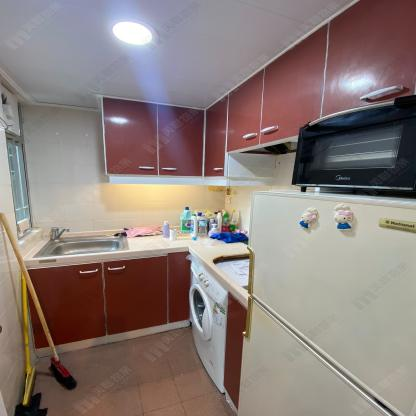Cupboard: (97, 94, 206, 177)
Faucet: (47, 225, 70, 239)
Fridge: (238, 192, 416, 416)
Sink: (30, 233, 131, 259)
Washing Machine: (189, 255, 227, 394)
